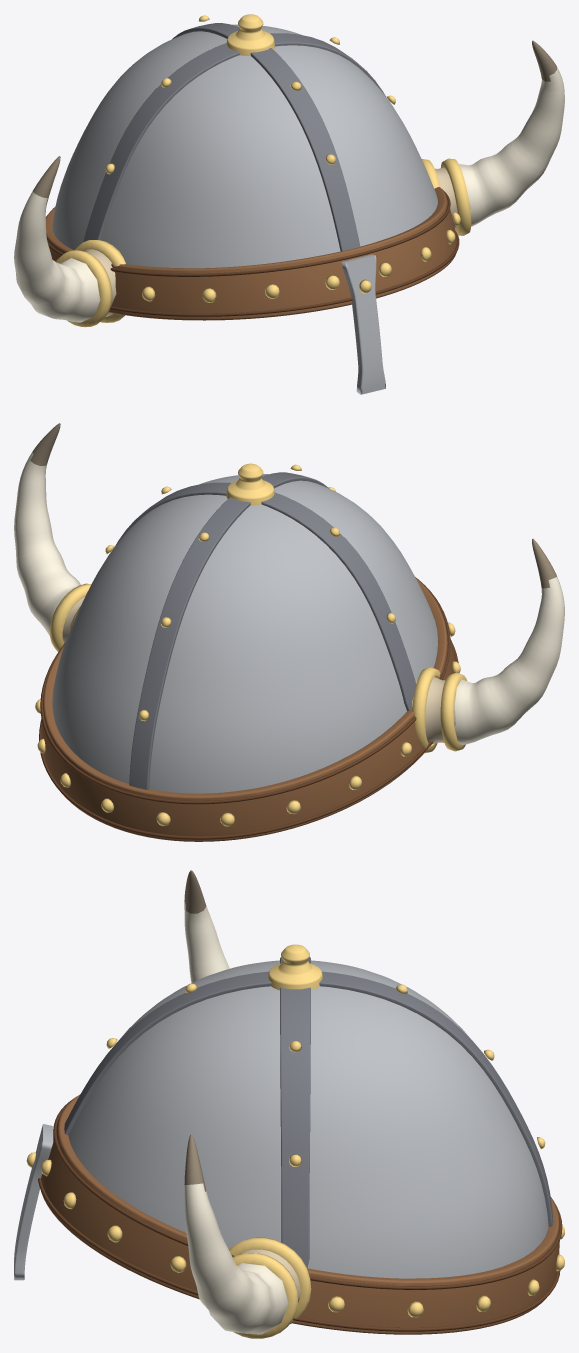
File: viking.glb
3 views of the same model, one above another, from view 1: azimuth 30°, elevation 25°; view 2: azimuth 150°, elevation 25°; view 3: azimuth 270°, elevation 25° (orthographic). The views are drawn at different scales.
Parts seen in each view (by area): view 1: viking_body; view 2: viking_body; view 3: viking_body.
Boxes of the visible parts, box(x1,y1,x2,y2) form: viking_body: box(14, 14, 564, 394); viking_body: box(14, 423, 564, 841); viking_body: box(14, 870, 564, 1338).
Bounding box in the file's own units: 2.14 × 1.08 × 1.65.
